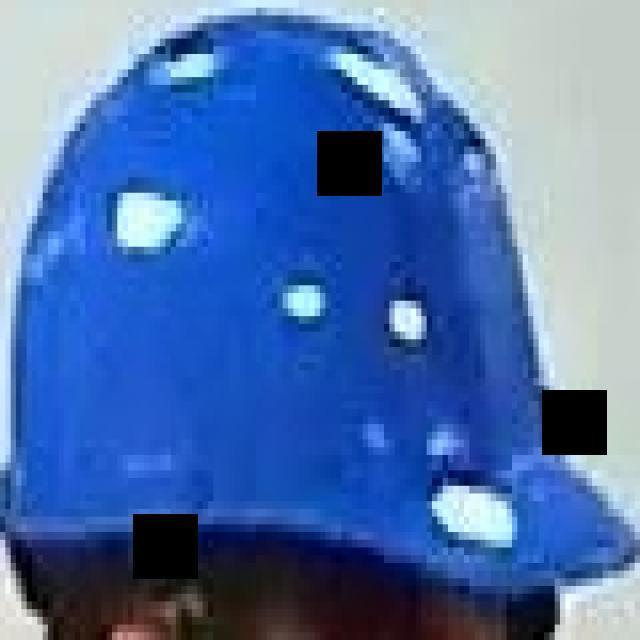blue helmet: (6, 8, 640, 611)
